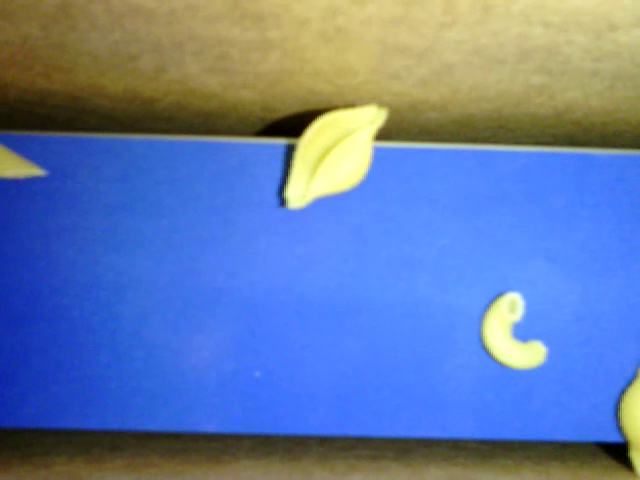elbow: (480, 290, 547, 370)
shell: (282, 103, 389, 209)
